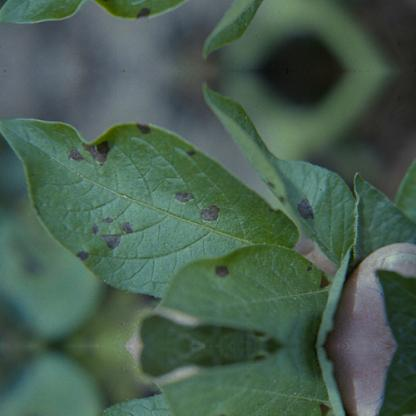Early-Blight: (0, 112, 302, 294), (190, 78, 358, 254), (154, 238, 330, 344), (154, 346, 330, 416), (190, 0, 357, 62)
